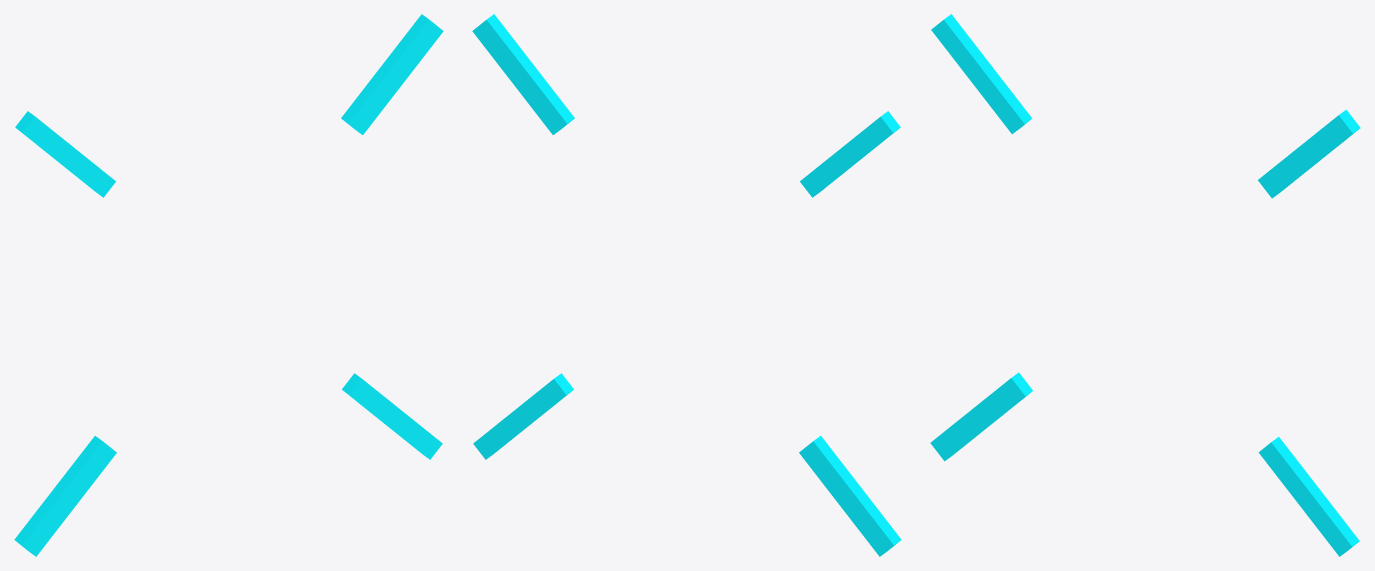
File: SM_Hud_Reticle_04.glb
3 views of the same model, side by side, from view 1: azimuth 30°, elevation 25°; view 2: azimuth 150°, elevation 25°; view 3: azimuth 330°, elevation 25° (orthographic).
Parts seen in each view (by area): view 1: SM_Hud_Reticle_04; view 2: SM_Hud_Reticle_04; view 3: SM_Hud_Reticle_04.
Part boxes in pixels (box(x1,y1,x2,y2)): SM_Hud_Reticle_04: box(14, 14, 443, 556); SM_Hud_Reticle_04: box(472, 14, 901, 556); SM_Hud_Reticle_04: box(930, 14, 1360, 556).
Size of the model in its own units: 0.3341 by 0.3341 by 0.0105.
